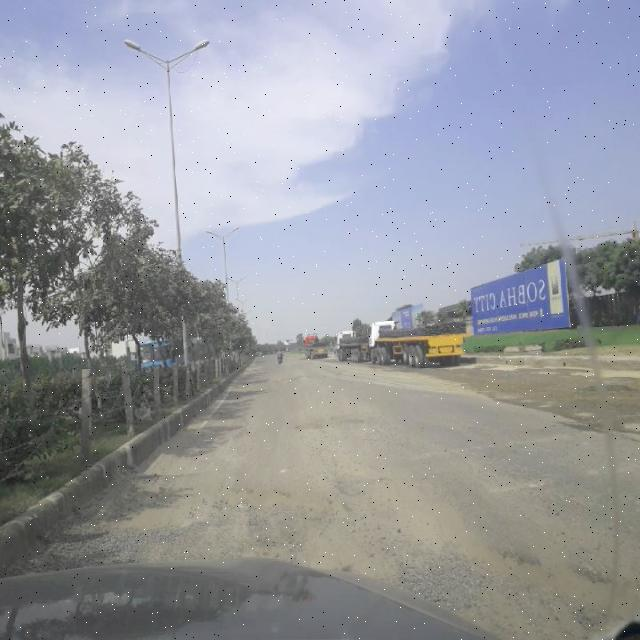D40: (1, 455, 637, 617), (286, 398, 374, 442)
